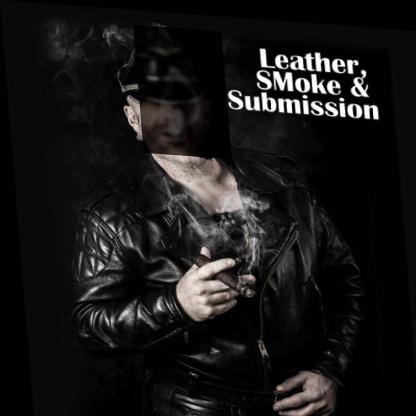smoke: (133, 23, 229, 156)
